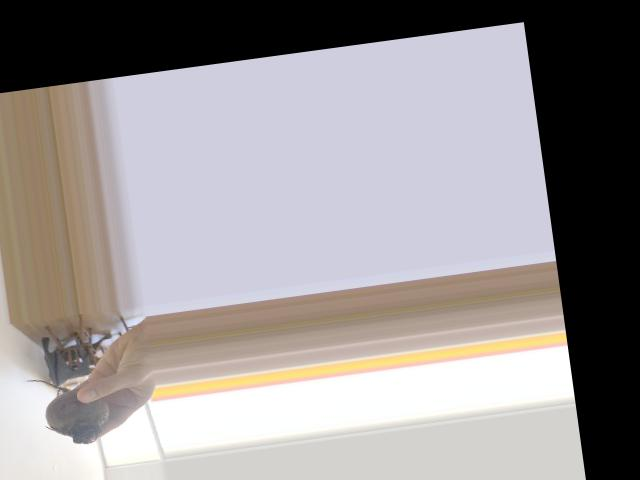beet: (23, 369, 112, 451)
